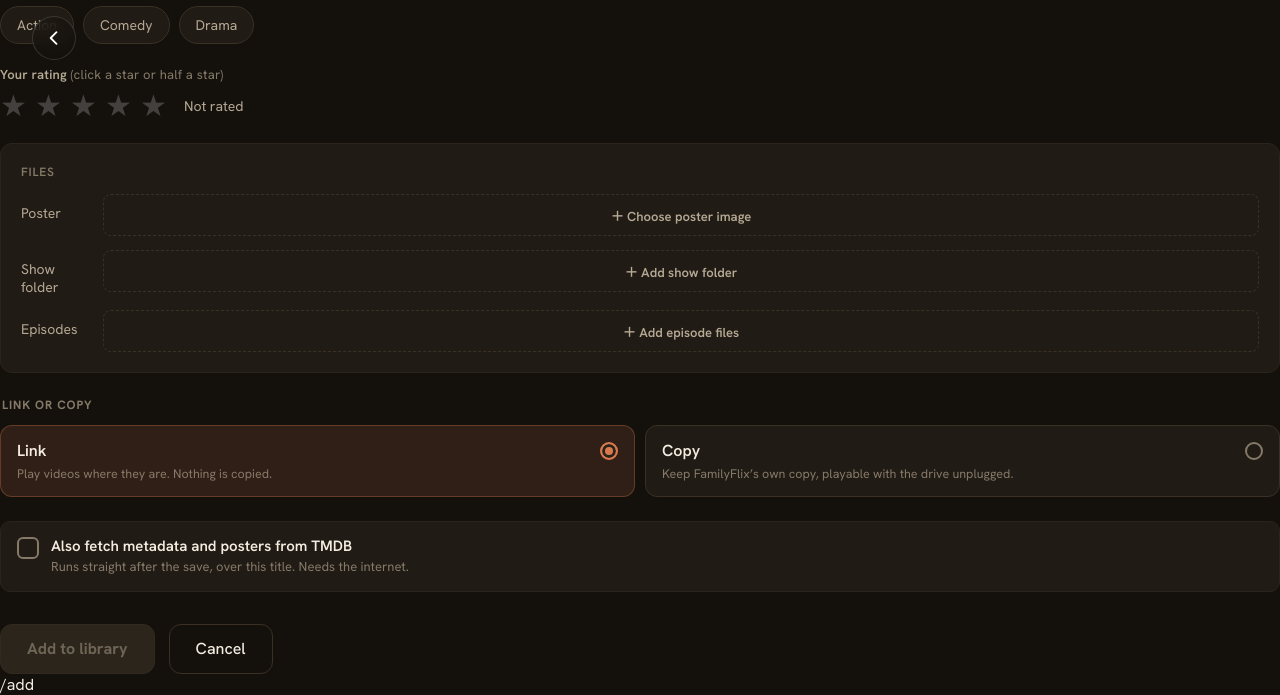
Test: MovieForm — Add show folder in the shell › a pick › fills an empty title with the Title guess
(page scrolled)
Click the button "＋ Add show folder". click: (681, 271)
box: [103,250,1259,292]
(page scrolled)
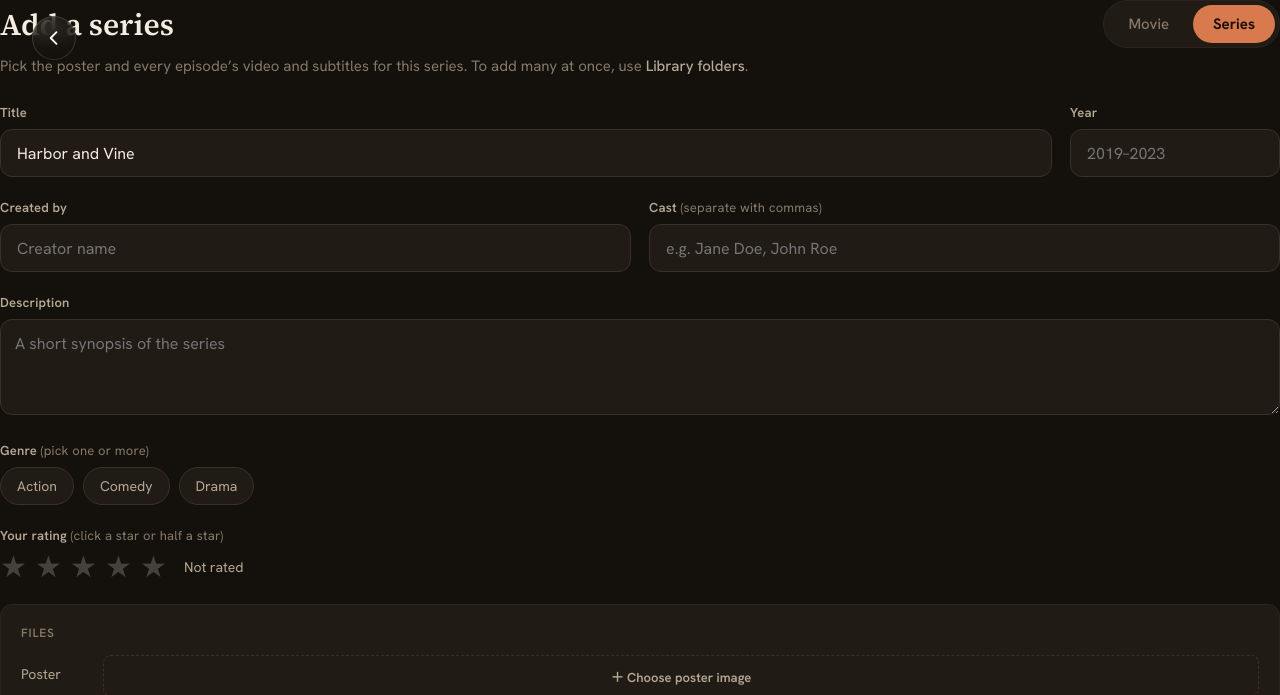
Check: the field labelled "Title" holds "Harbor and Vine", box [15,130,1037,176]
